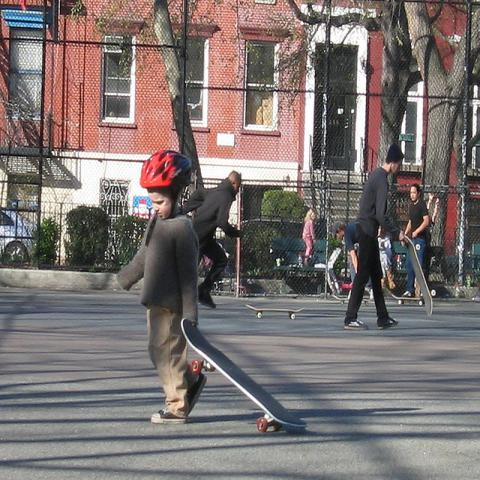car: (0, 210, 38, 263), (272, 236, 303, 265)
